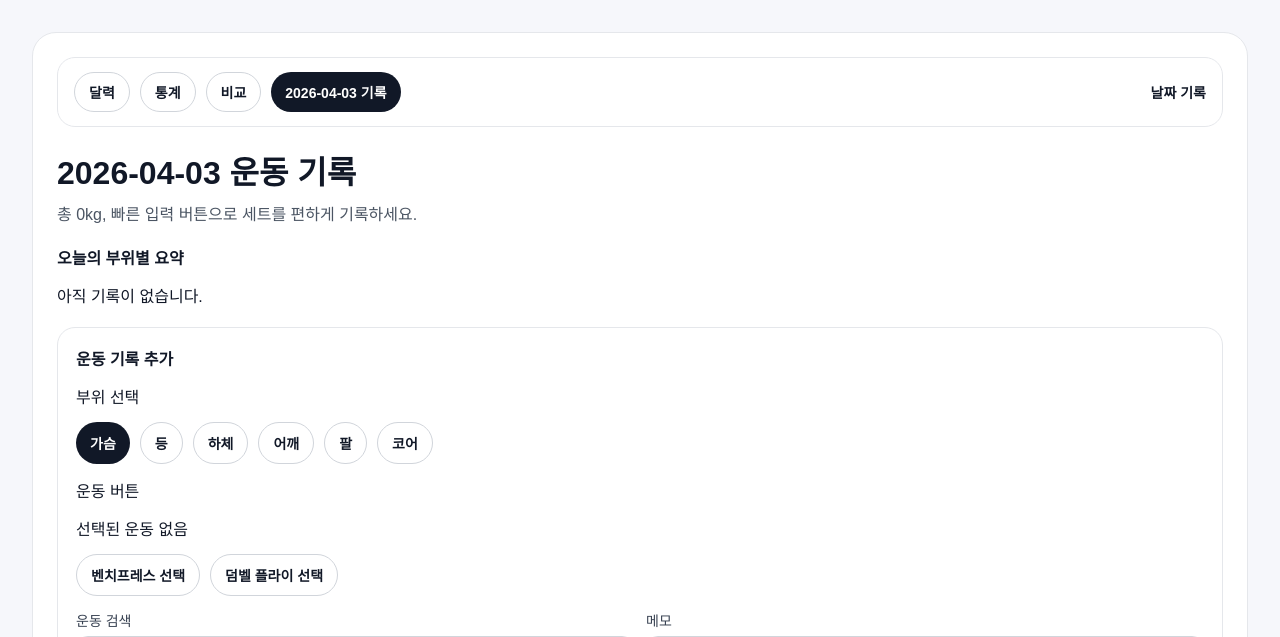
Test: DailyRecordPanel › 운동 버튼을 누른 뒤 다른 운동 버튼으로 다시 바꿀 수 있어야 한다
Click the button "벤치프레스 선택" at [138, 575], box [76,554,200,596]
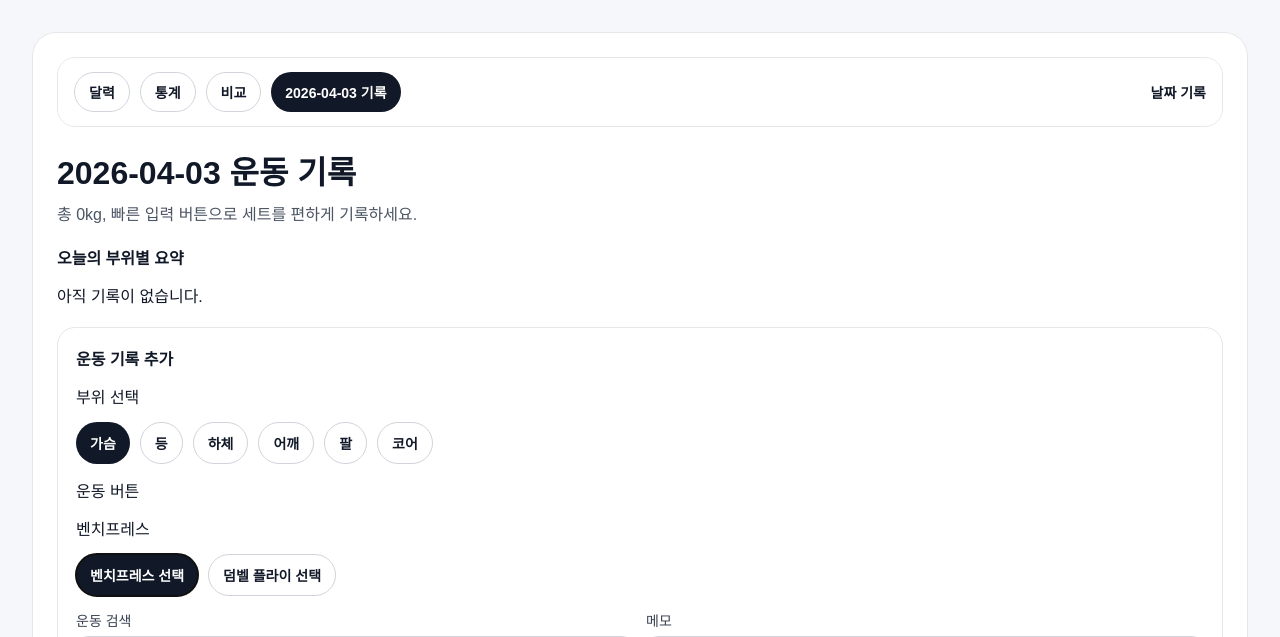
Expected: the text named "선택된 운동" reads "벤치프레스", [76,521,150,538]
Click the button "덤벨 플라이 선택" at [272, 575], box [208,554,336,596]
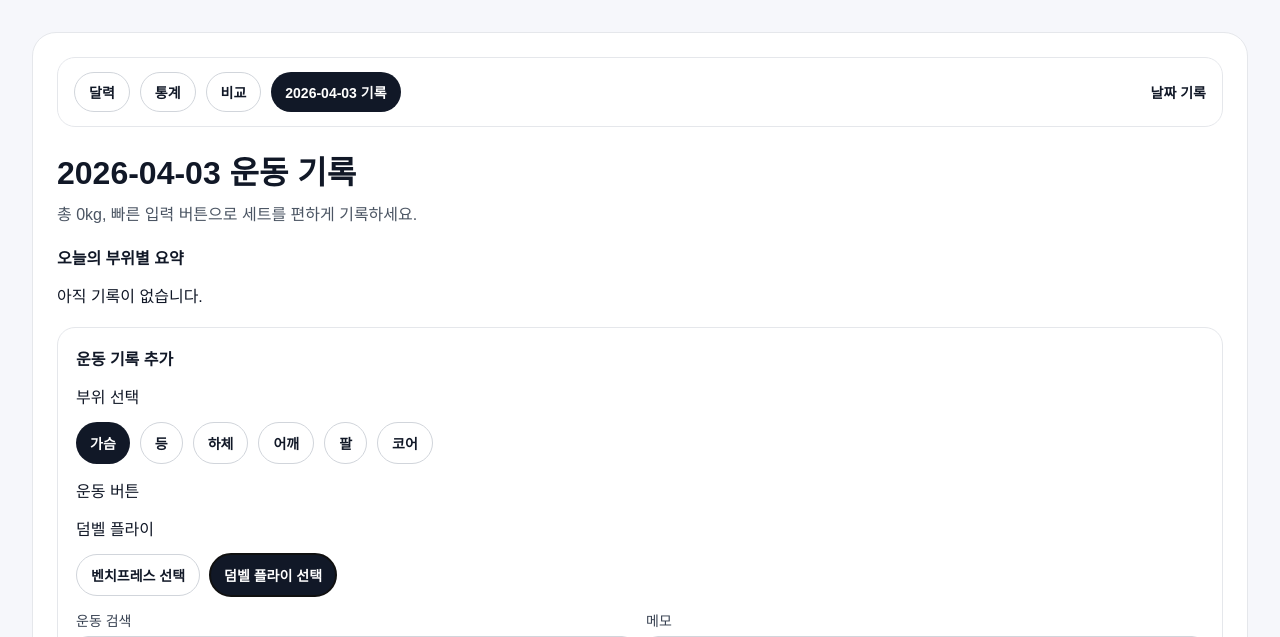
Expected: the text named "선택된 운동" reads "덤벨 플라이", [76,521,154,538]
